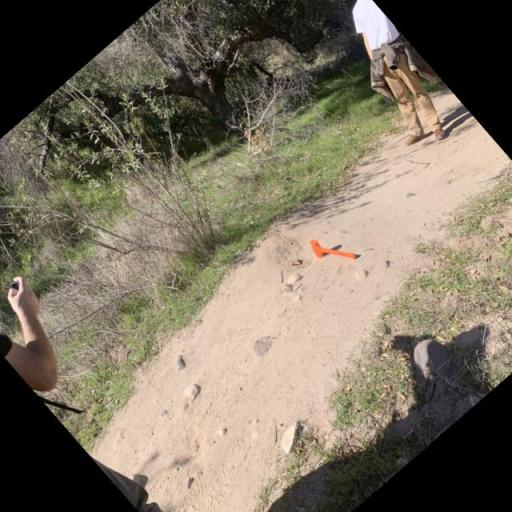mallet: (306, 224, 358, 278)
